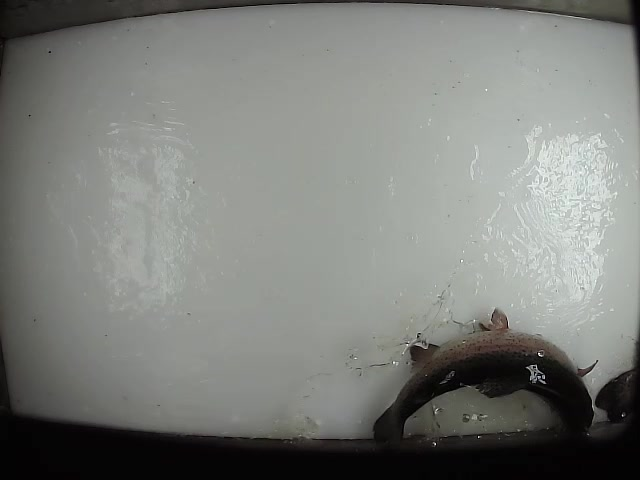fish: (369, 307, 599, 468)
